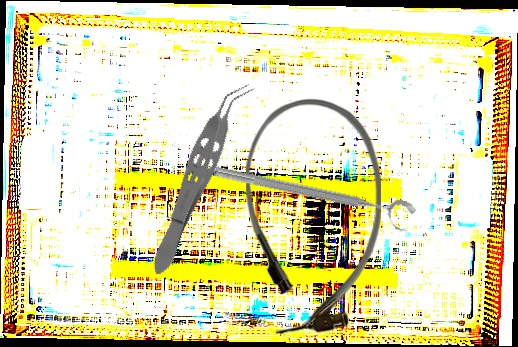Cannula: (246, 97, 381, 335)
Fixation Ring: (210, 161, 418, 235)
Tissue Forceps: (141, 74, 257, 281)
